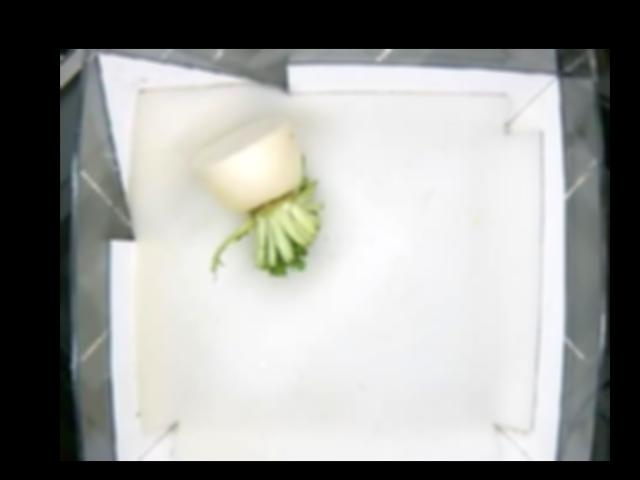Mooli: (199, 114, 321, 279)
